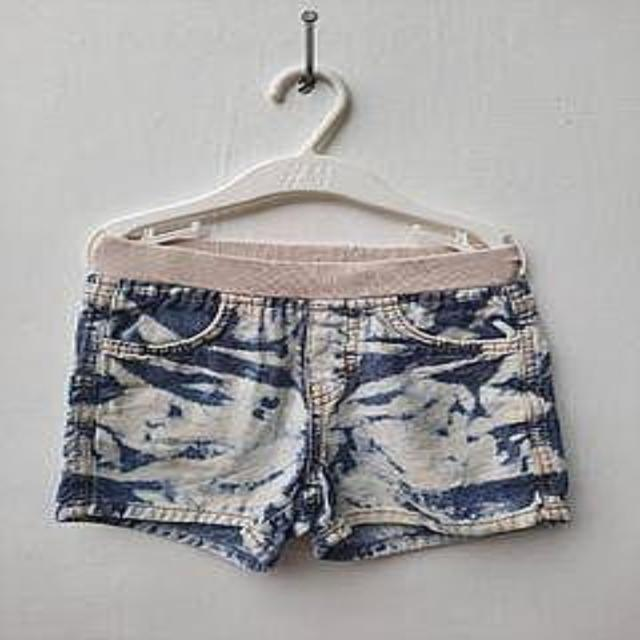SHORT: (42, 230, 584, 575)
